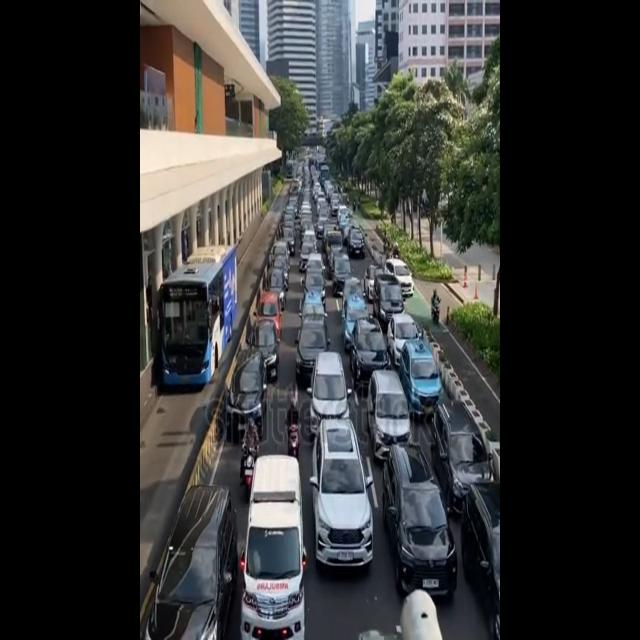Ambulance: (238, 442, 314, 636)
